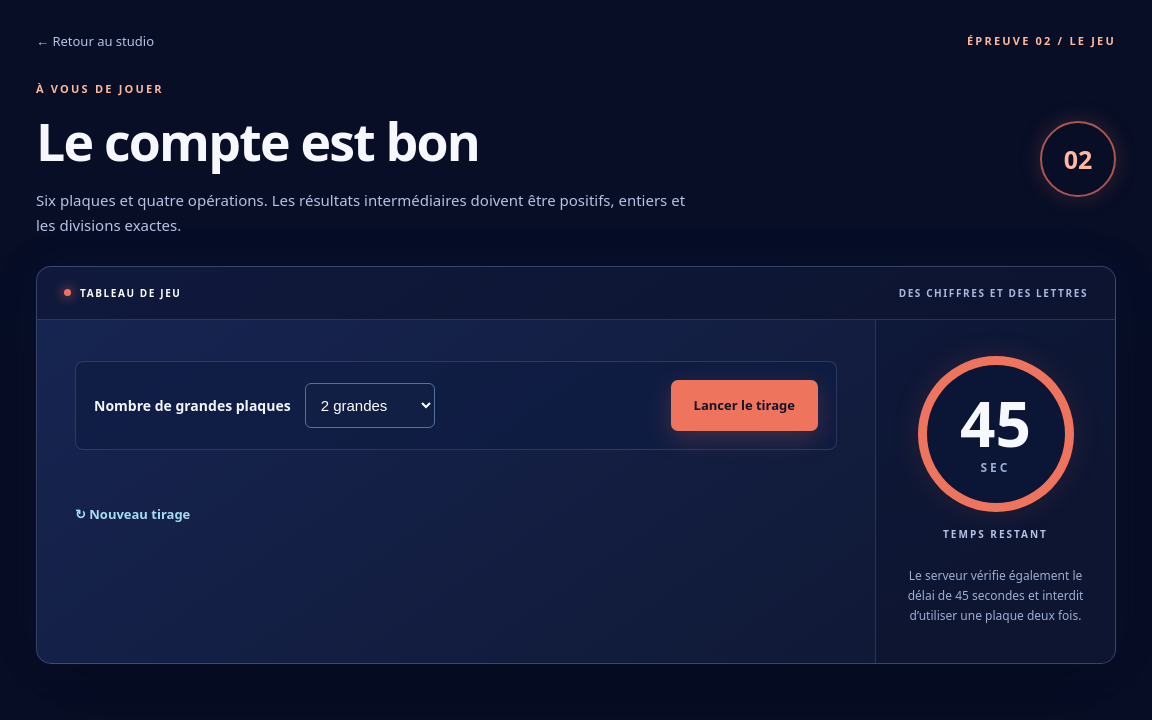
Test: selects the count of large plates before draw and displays the target
The width and height of the screenshot is (1152, 720).
Select "4 grandes" in the dropdown labelled "Nombre de grandes plaques" at (370, 405), box [305,383,435,428]
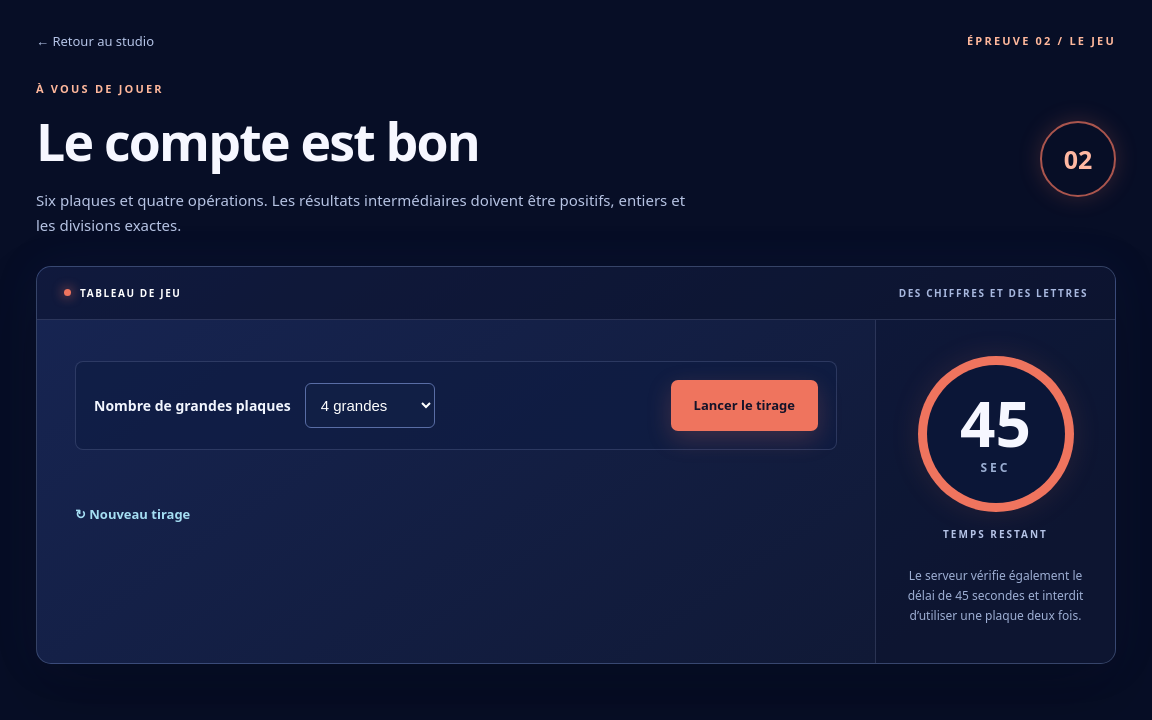
Click the button "Lancer le tirage" at (744, 405), box [671,380,818,431]
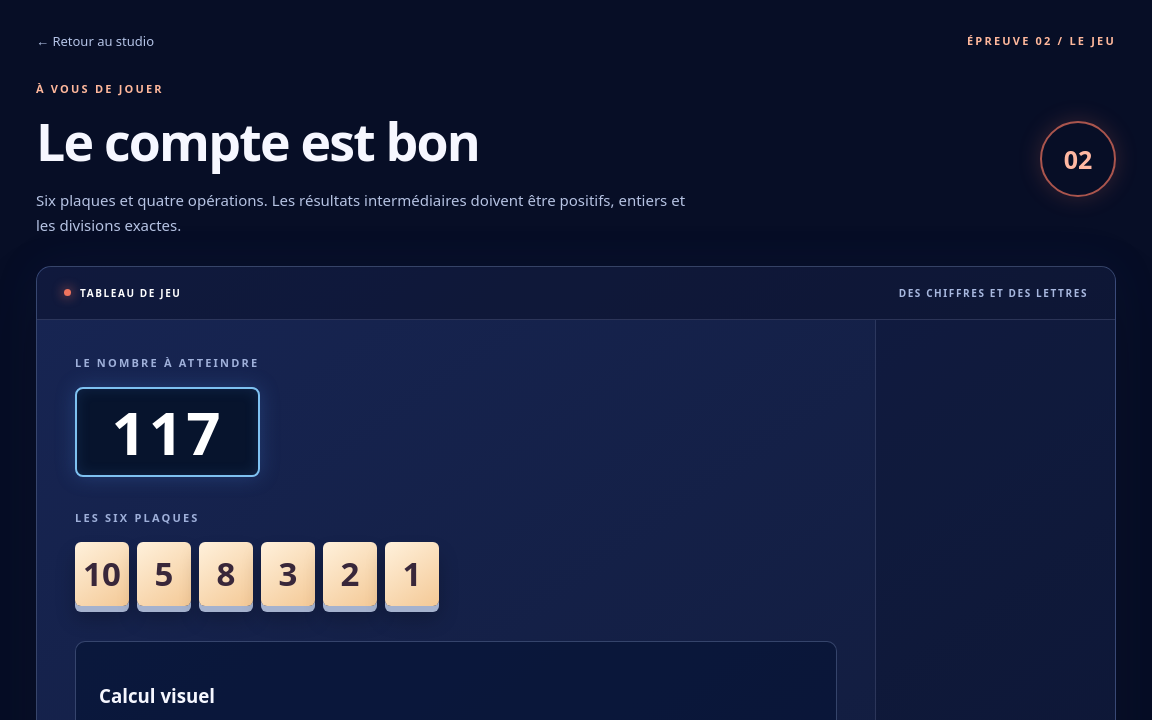
Expected: the text "117" is shown, [75,387,260,477]
